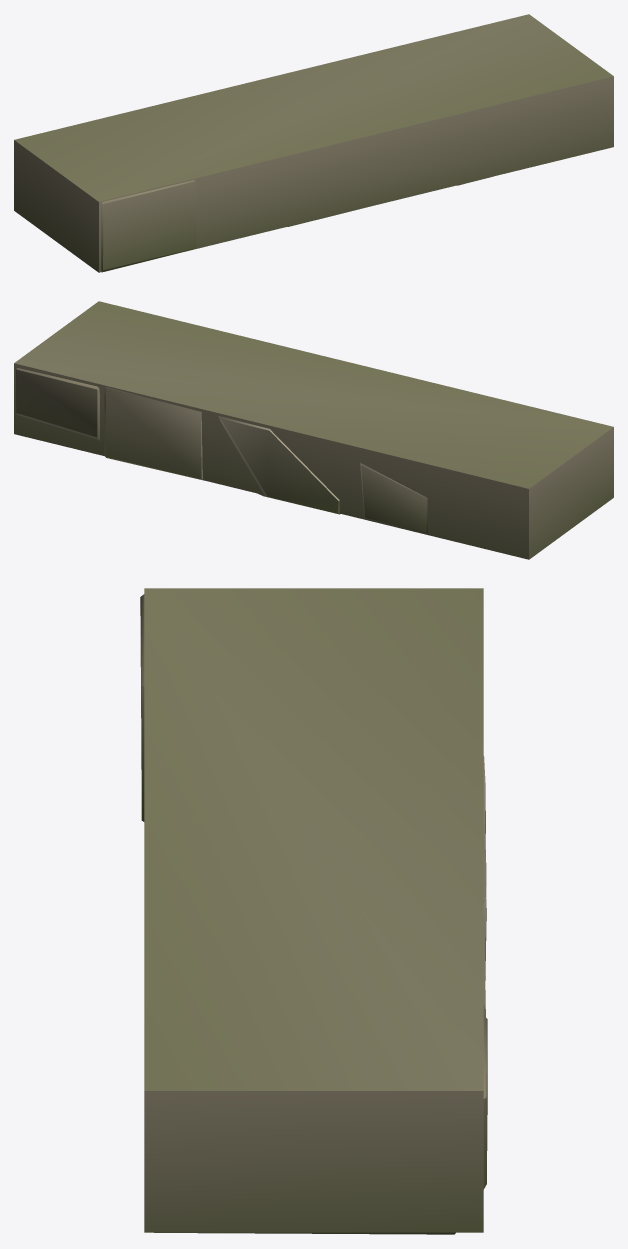
Rendered from street_kerb.glb.
The picture shows the model from 3 angles, top to bottom: view 1: azimuth 30°, elevation 25°; view 2: azimuth 150°, elevation 25°; view 3: azimuth 270°, elevation 25°; orthographic projection. The views are drawn at different scales.
Parts seen in each view (by area): view 1: street_kerb_far, street_kerb; view 2: street_kerb_far, street_kerb; view 3: street_kerb_far, street_kerb.
Part boxes in pixels (x1,y1,x2,y2): street_kerb_far: (14, 14, 613, 272); street_kerb: (101, 177, 489, 272); street_kerb_far: (14, 301, 613, 559); street_kerb: (16, 368, 427, 533); street_kerb_far: (144, 588, 483, 1232); street_kerb: (140, 594, 487, 1234).
Size of the model in its own units: 13.32 by 1.82 by 3.89.
